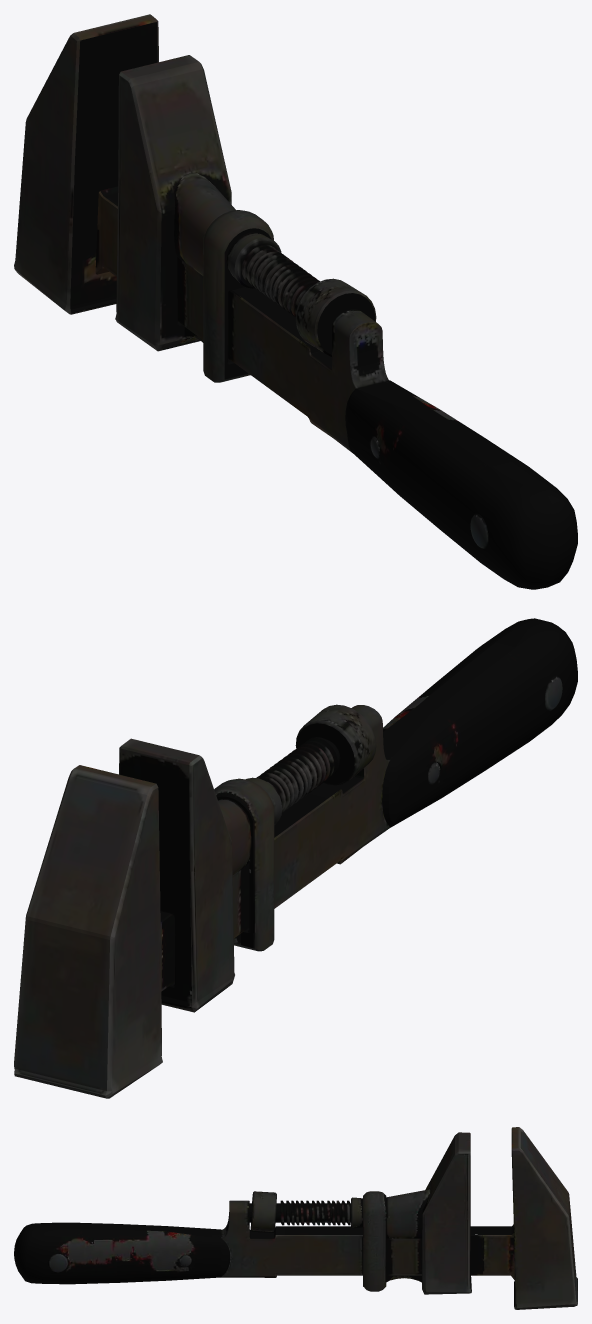
The picture shows the model from 3 angles, top to bottom: view 1: azimuth 30°, elevation 25°; view 2: azimuth 150°, elevation 25°; view 3: azimuth 270°, elevation 25°; orthographic projection. The views are drawn at different scales.
Parts seen in each view (by area): view 1: body0_model0_lod0_mesh0; view 2: body0_model0_lod0_mesh0; view 3: body0_model0_lod0_mesh0.
Part boxes in pixels (box(x1,y1,x2,y2)): body0_model0_lod0_mesh0: box(14, 14, 577, 589); body0_model0_lod0_mesh0: box(14, 618, 577, 1098); body0_model0_lod0_mesh0: box(14, 1127, 577, 1309).
Size of the model in its own units: 3.32 by 8.84 by 28.43.
Materials: 1 (1 with a texture image).
